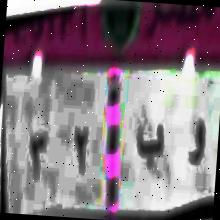2: (68, 119, 92, 180)
3: (24, 126, 50, 186)
baa: (132, 117, 166, 174)
waw: (182, 108, 210, 178)
